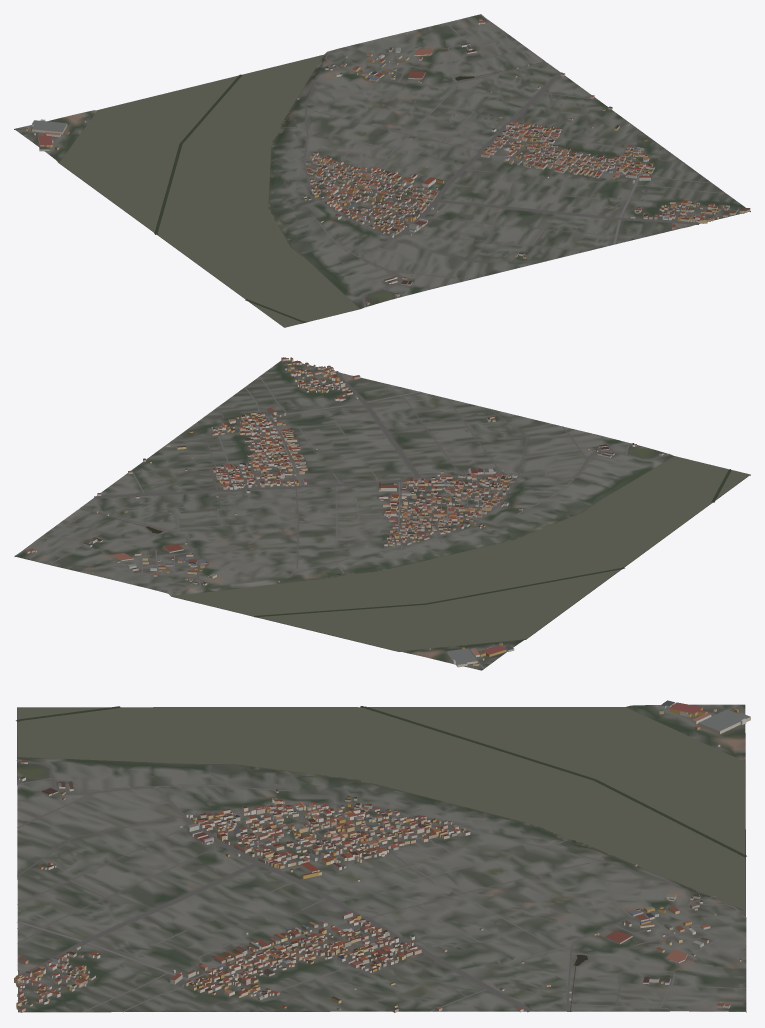
The picture shows the model from 3 angles, top to bottom: view 1: azimuth 30°, elevation 25°; view 2: azimuth 150°, elevation 25°; view 3: azimuth 270°, elevation 25°; orthographic projection. The views are drawn at different scales.
Parts seen in each view (by area): view 1: ground, water, buildings, roads; view 2: ground, water, buildings, roads; view 3: ground, water, buildings, roads.
Boxes of the visible parts, x1=… form: ground: x1=14, y1=14, x2=750, y2=327; water: x1=59, y1=55, x2=689, y2=327; buildings: x1=26, y1=18, x2=750, y2=304; roads: x1=16, y1=14, x2=733, y2=307; ground: x1=15, y1=360, x2=750, y2=670; water: x1=80, y1=373, x2=749, y2=651; buildings: x1=25, y1=357, x2=664, y2=667; roads: x1=14, y1=364, x2=670, y2=668; ground: x1=17, y1=704, x2=746, y2=1012; water: x1=16, y1=706, x2=746, y2=1011; buildings: x1=14, y1=700, x2=750, y2=1012; roads: x1=15, y1=704, x2=746, y2=1012.
Size of the model in its own units: 1417 by 25.17 by 1418.
